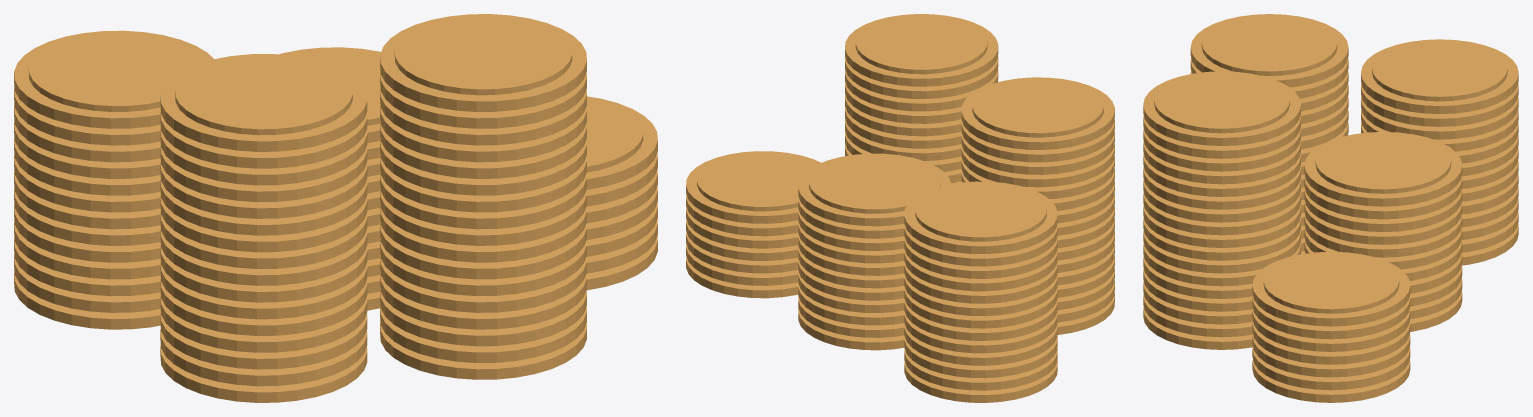
File: Coins.fbx
3 views of the same model, side by side, from view 1: azimuth 30°, elevation 25°; view 2: azimuth 150°, elevation 25°; view 3: azimuth 270°, elevation 25° (orthographic). The views are drawn at different scales.
Visible parts, largest first — view 1: Circle.097; view 2: Circle.097; view 3: Circle.097.
Boxes of the visible parts, x1,y1,x2,y2 form: Circle.097: (14, 14, 657, 402); Circle.097: (686, 14, 1114, 402); Circle.097: (1143, 14, 1518, 402).
Bounding box in the file's own units: 607 × 302 × 476.
